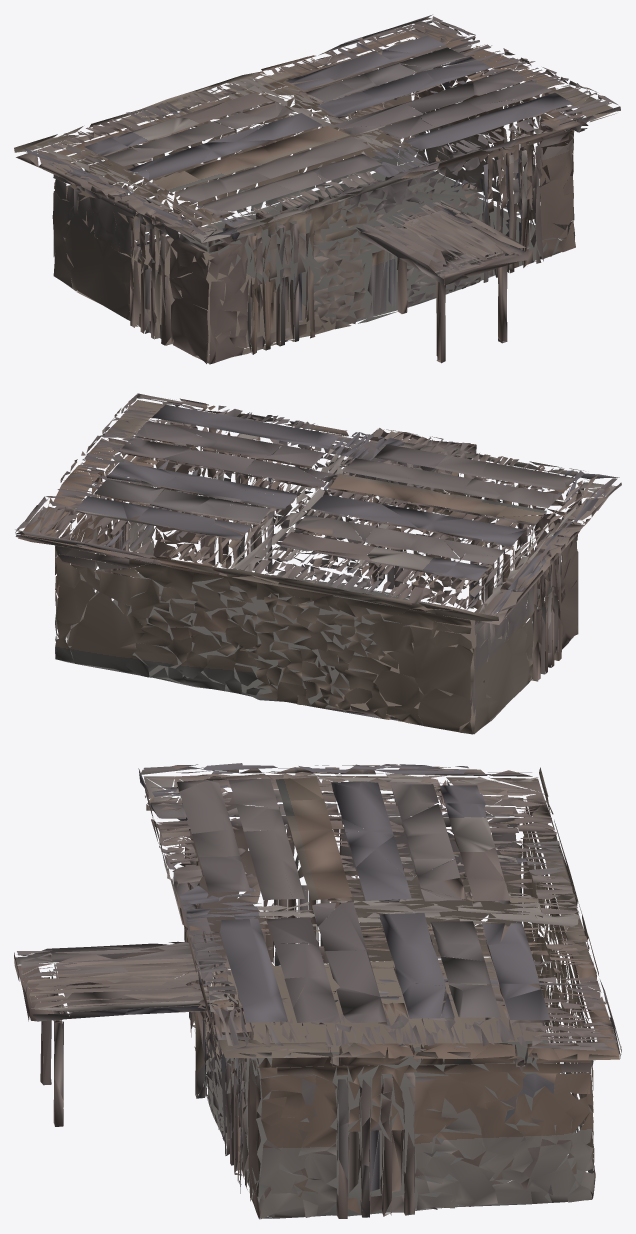
Rendered from fbo.glb.
The picture shows the model from 3 angles, top to bottom: view 1: azimuth 30°, elevation 25°; view 2: azimuth 150°, elevation 25°; view 3: azimuth 270°, elevation 25°; orthographic projection. The views are drawn at different scales.
Visible parts, largest first — view 1: LO.001; view 2: LO.001; view 3: LO.001.
Boxes of the visible parts, x1,y1,x2,y2 form: LO.001: (14, 14, 620, 364); LO.001: (15, 393, 621, 734); LO.001: (14, 763, 621, 1219).
Bounding box in the file's own units: 2.02 × 0.6052 × 1.7.
Materials: 1 (1 with a texture image).
